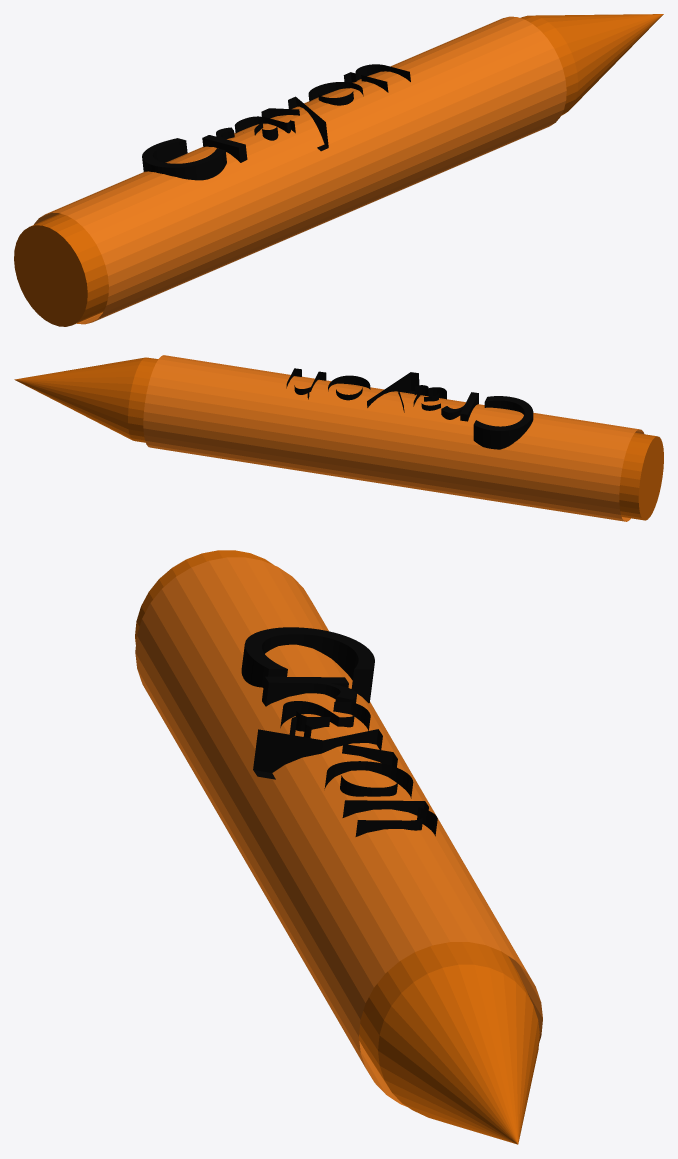
File: Orange_crayon.fbx
3 renders of one model, top to bottom at view 1: azimuth 30°, elevation 25°; view 2: azimuth 150°, elevation 25°; view 3: azimuth 270°, elevation 25°, orthographic. The views are drawn at different scales.
Visible parts, largest first — view 1: Cone.003; view 2: Cone.003; view 3: Cone.003.
Boxes of the visible parts, x1=… form: Cone.003: x1=14, y1=14, x2=663, y2=326; Cone.003: x1=14, y1=355, x2=663, y2=521; Cone.003: x1=135, y1=550, x2=542, y2=1144.
Size of the model in its own units: 12.12 by 2.03 by 3.75.
